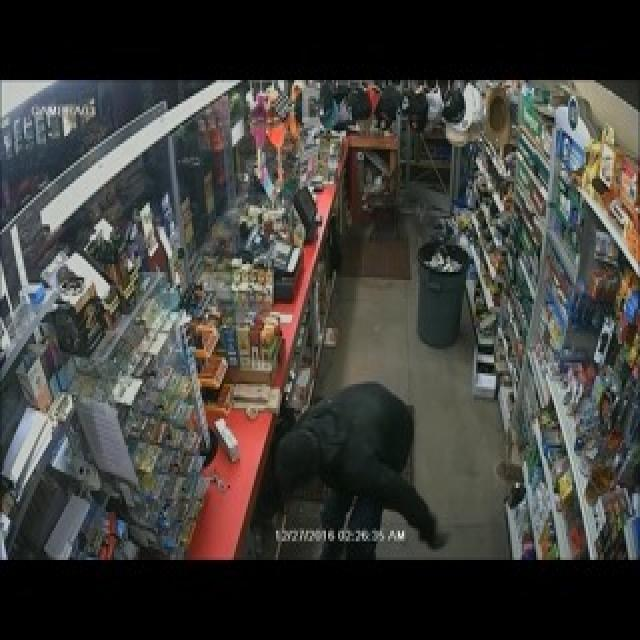thief: (266, 389, 428, 549)
